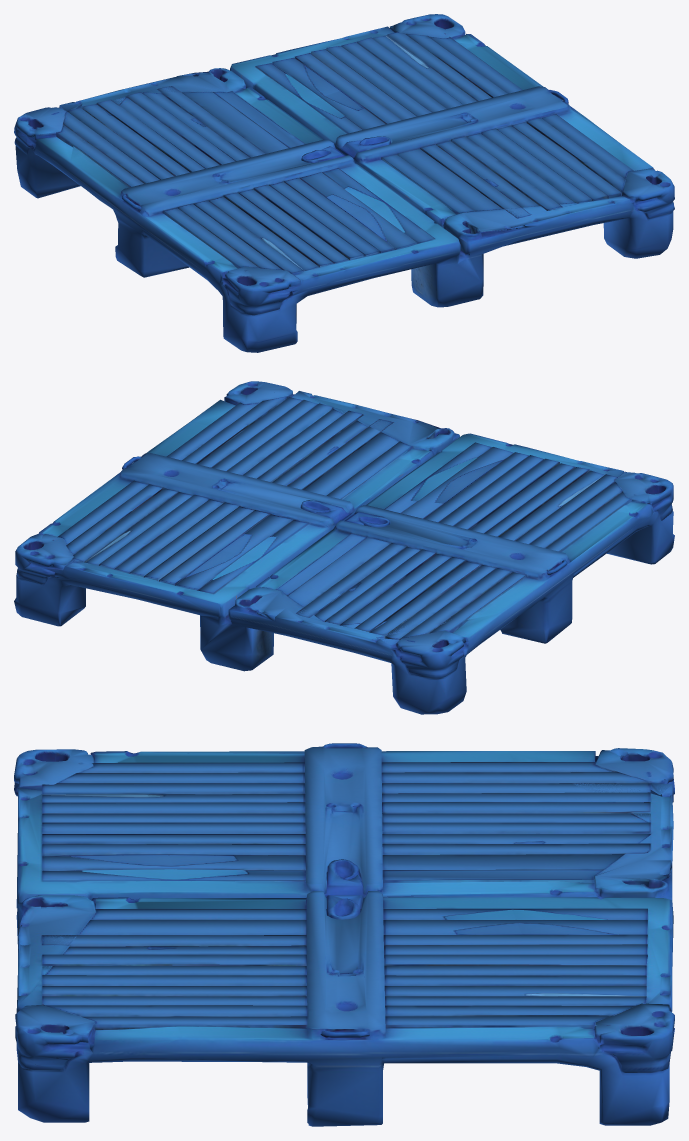
3 views of the same model, one above another, from view 1: azimuth 30°, elevation 25°; view 2: azimuth 150°, elevation 25°; view 3: azimuth 270°, elevation 25° (orthographic). The views are drawn at different scales.
Parts seen in each view (by area): view 1: tripo_node_9bda57c1-8476-4e8b-a1aa-1dc84a398148; view 2: tripo_node_9bda57c1-8476-4e8b-a1aa-1dc84a398148; view 3: tripo_node_9bda57c1-8476-4e8b-a1aa-1dc84a398148.
Boxes of the visible parts, box(x1,y1,x2,y2) form: tripo_node_9bda57c1-8476-4e8b-a1aa-1dc84a398148: box(14, 14, 674, 352); tripo_node_9bda57c1-8476-4e8b-a1aa-1dc84a398148: box(14, 381, 674, 714); tripo_node_9bda57c1-8476-4e8b-a1aa-1dc84a398148: box(14, 743, 674, 1126).
Size of the model in its own units: 0.998 by 0.1504 by 0.959.
1 material, 1 textured.
